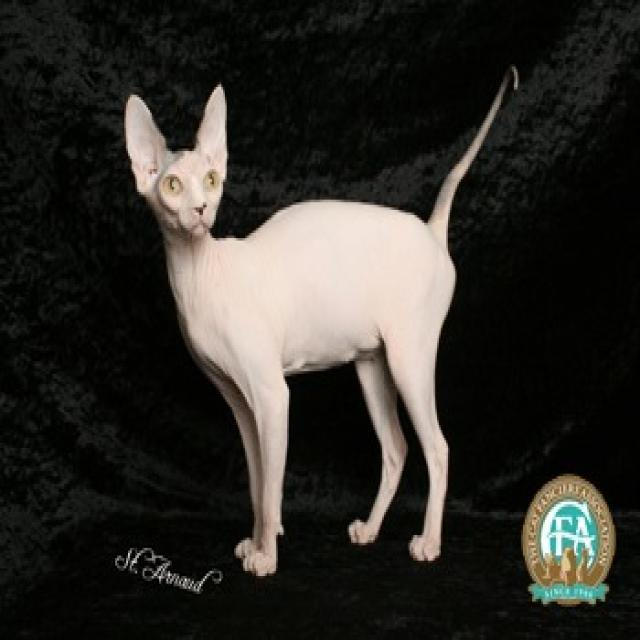Sphynx: (119, 80, 233, 244)
